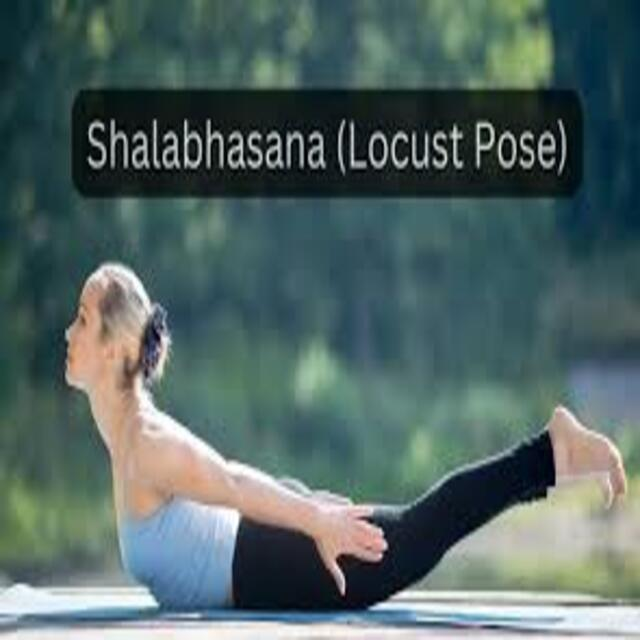Locust_Pose: (54, 259, 627, 610)
